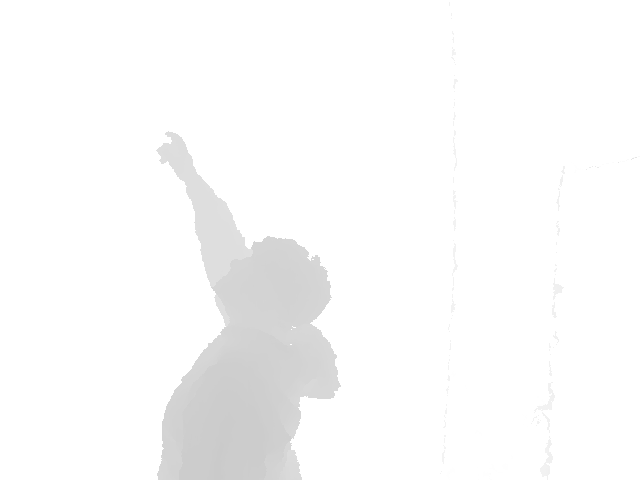hand: (156, 129, 201, 174)
head: (211, 234, 333, 337)
person: (153, 129, 345, 479)
